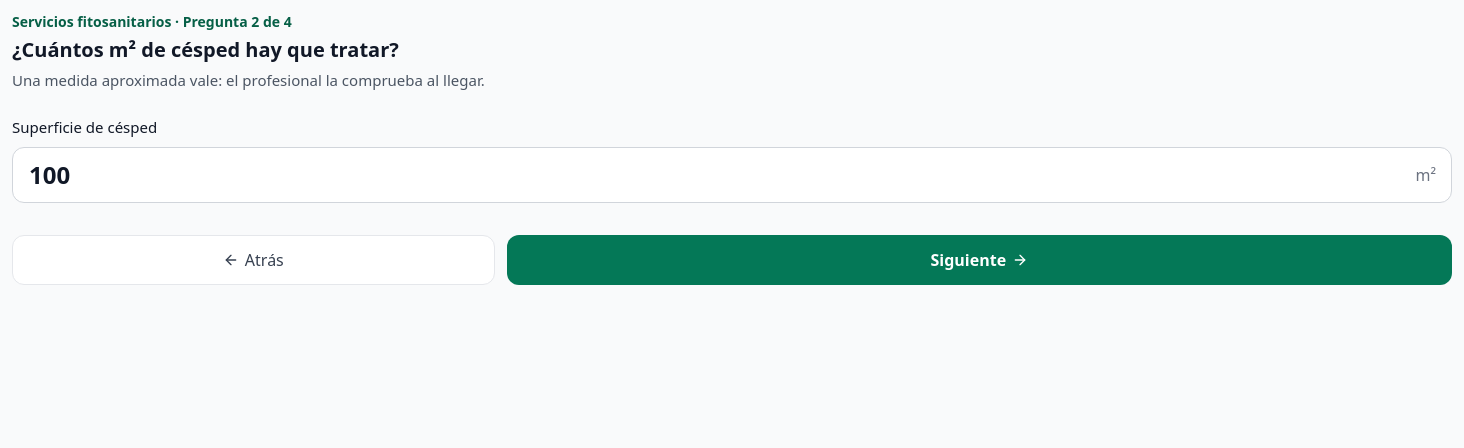
Test case: fitosanitarios · aviso del producto convencional (QA-170) › con el convencional sale el aviso con la casilla SIN marcar y no deja seguir hasta marcarla
The width and height of the screenshot is (1464, 448).
Earlier steps of the test are not shown.
Click the button "Siguiente" at (979,260), box [507,234,1452,284]
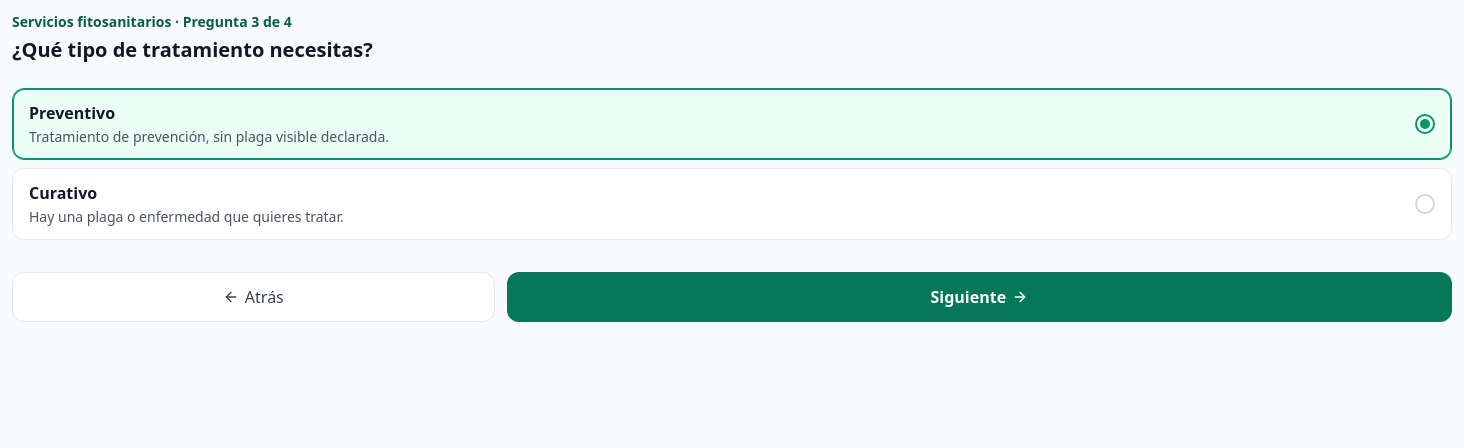
Click the button "Siguiente" at (979,297), box [507,272,1452,322]
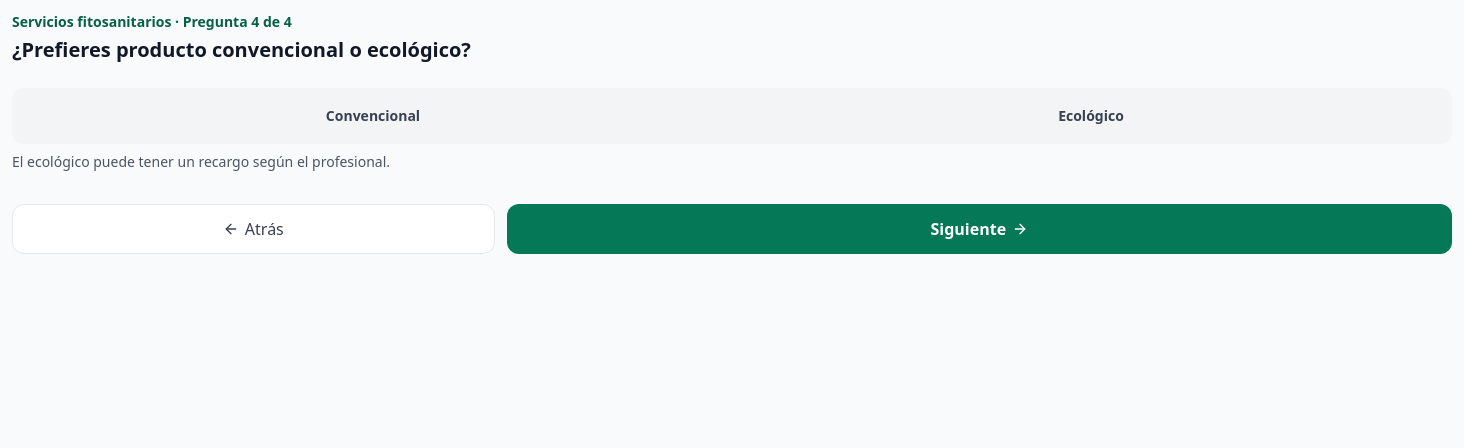
Result: the heading reads "¿Prefieres producto convencional o ecológico?" at [12,36,471,63]
Click the radio button labelled "Convencional" at (373,116), box [16,92,730,140]
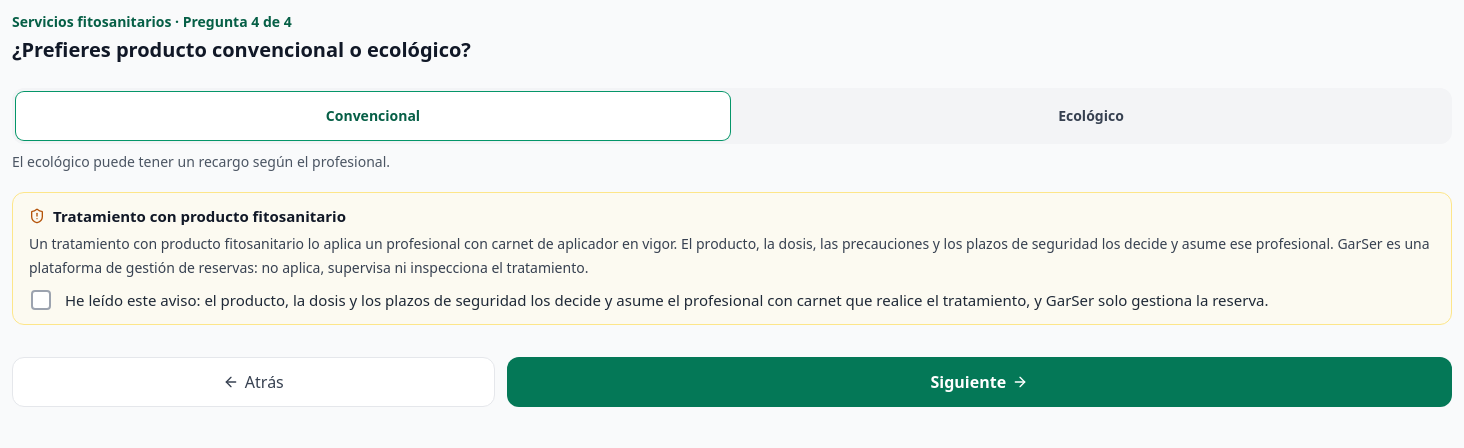
Result: the text "Tratamiento con producto fitosanitario" is shown at [29,206,346,226]
Result: the text "carnet de aplicador" is shown at [29,234,1430,276]
Result: the text "GarSer es una plataforma de gestión de reservas" is shown at [29,234,1430,276]
Click the button "Siguiente" at (979,382), box [507,356,1452,406]
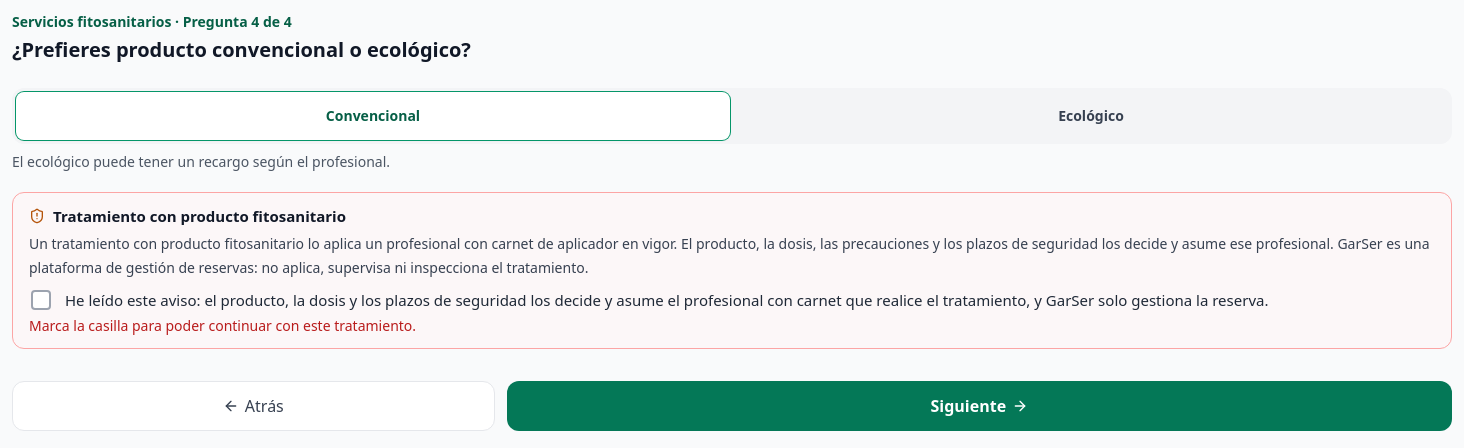
Result: the heading reads "¿Prefieres producto convencional o ecológico?" at [12,36,471,63]
Result: the text "Marca la casilla para poder continuar con este tratamiento." is shown at [29,316,416,334]
Click the checkbox named "He leído este aviso: el producto, la dosis y los plazos de s" at (732,300), box [29,288,1435,312]
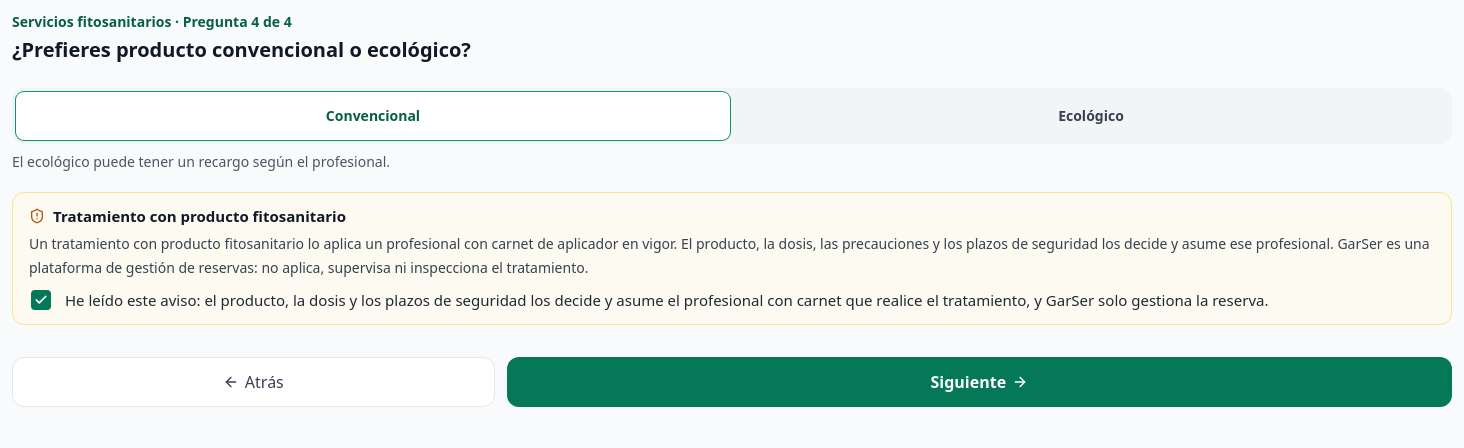
Click the button "Siguiente" at (979,382), box [507,356,1452,406]
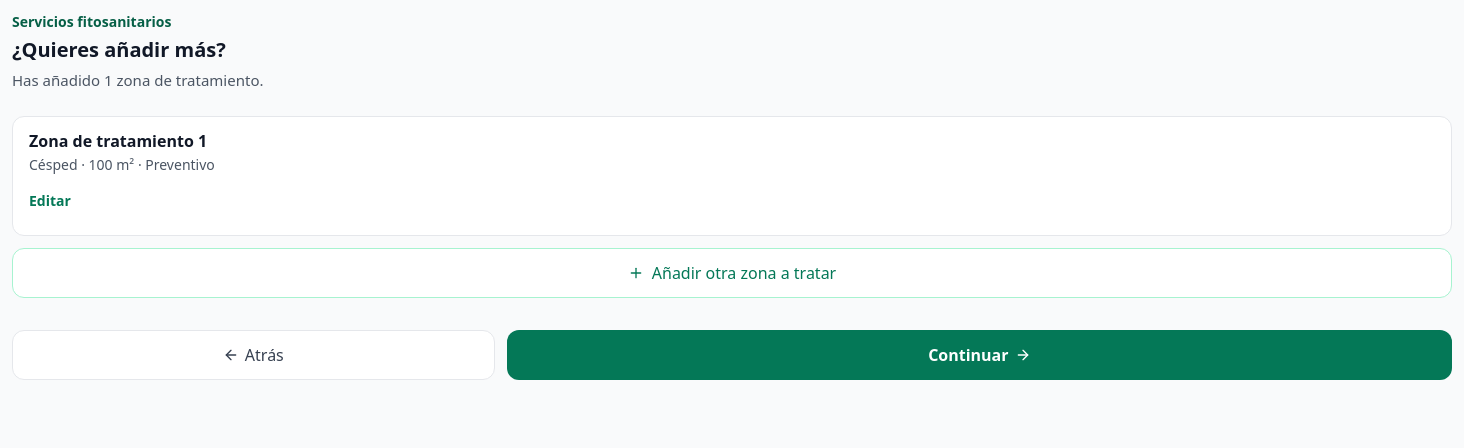
Result: the heading "¿Prefieres producto convencional o ecológico?" no longer shows "¿Prefieres producto convencional o ecológico?"
